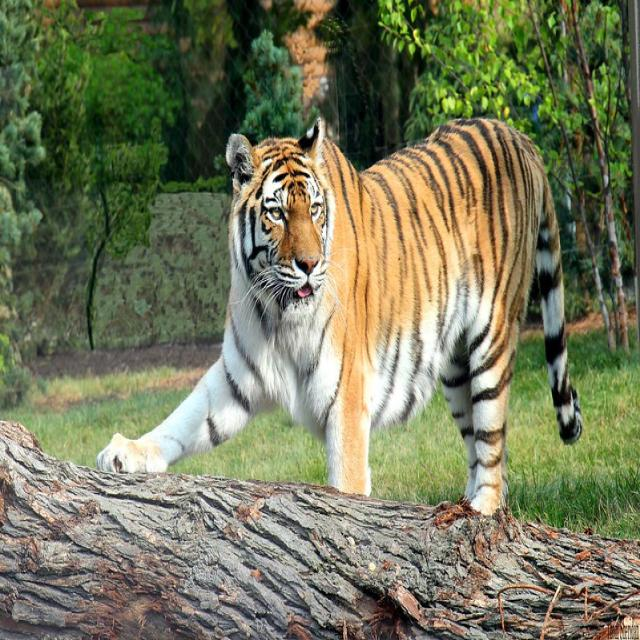Tiger: (118, 108, 580, 501)
